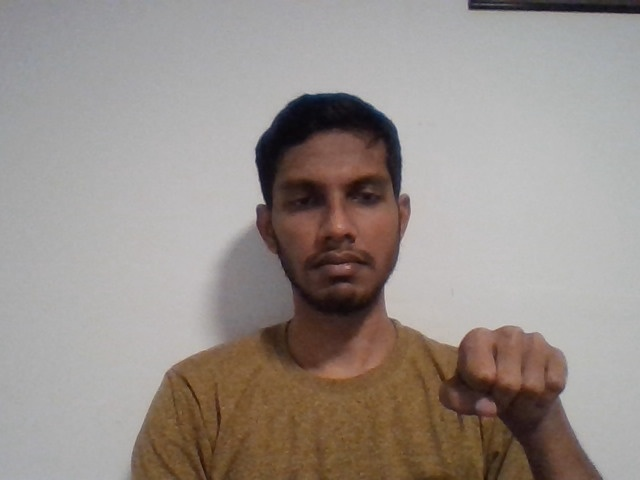yes: (425, 314, 582, 436)
